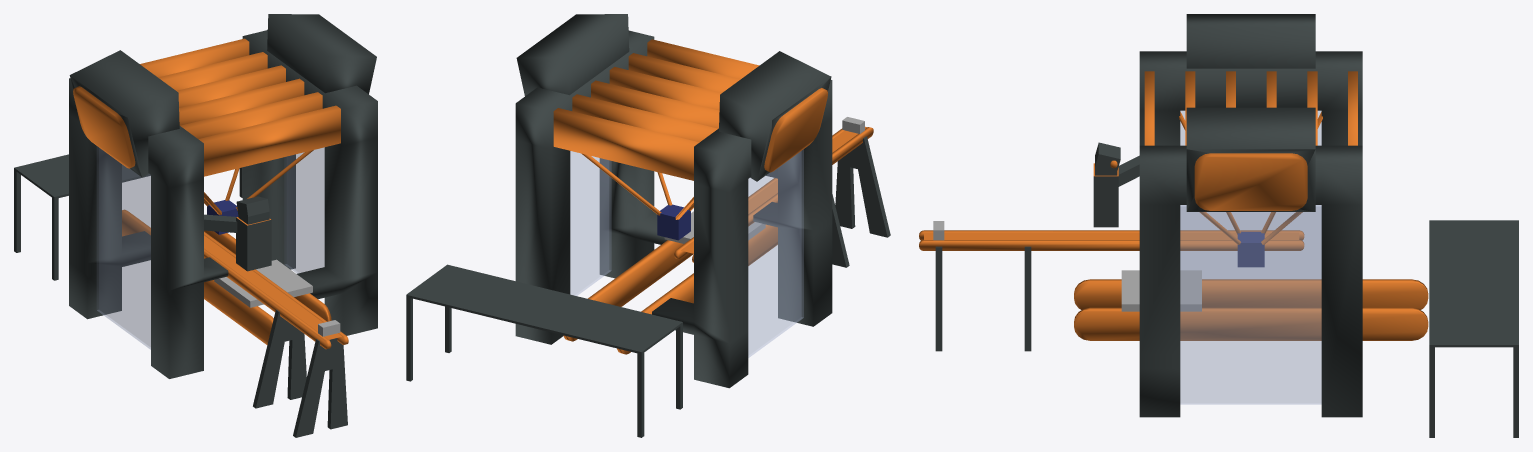
The model's file is stacker.glb.
3 views of the same model, side by side, from view 1: azimuth 30°, elevation 25°; view 2: azimuth 150°, elevation 25°; view 3: azimuth 270°, elevation 25° (orthographic). The views are drawn at different scales.
Parts seen in each view (by area): view 1: БАЗА, маленький конвеер, Стол, мини манипулятор, Большой груз, тяги экструдера, Экструдер; view 2: БАЗА, Стол, маленький конвеер, Экструдер, тяги экструдера; view 3: БАЗА, Стол, маленький конвеер, мини манипулятор, Большой груз, Экструдер, тяги экструдера.
Part boxes in pixels (bbox=[...]): БАЗА: bbox=[69, 14, 377, 378]; маленький конвеер: bbox=[204, 231, 348, 437]; Стол: bbox=[14, 154, 242, 280]; мини манипулятор: bbox=[204, 196, 271, 271]; Большой груз: bbox=[214, 259, 312, 307]; тяги экструдера: bbox=[204, 150, 313, 214]; Экструдер: bbox=[207, 200, 238, 234]; БАЗА: bbox=[515, 14, 832, 388]; Стол: bbox=[406, 264, 682, 437]; маленький конвеер: bbox=[674, 126, 890, 267]; Экструдер: bbox=[657, 204, 690, 240]; тяги экструдера: bbox=[581, 153, 693, 219]; БАЗА: bbox=[1074, 14, 1428, 417]; Стол: bbox=[1429, 220, 1518, 437]; маленький конвеер: bbox=[919, 230, 1304, 351]; мини манипулятор: bbox=[1093, 142, 1139, 227]; Большой груз: bbox=[1121, 270, 1201, 311]; Экструдер: bbox=[1237, 231, 1264, 267]; тяги экструдера: bbox=[1179, 112, 1322, 244].
Bounding box in the file's own units: 3.09 × 2.91 × 5.38.
